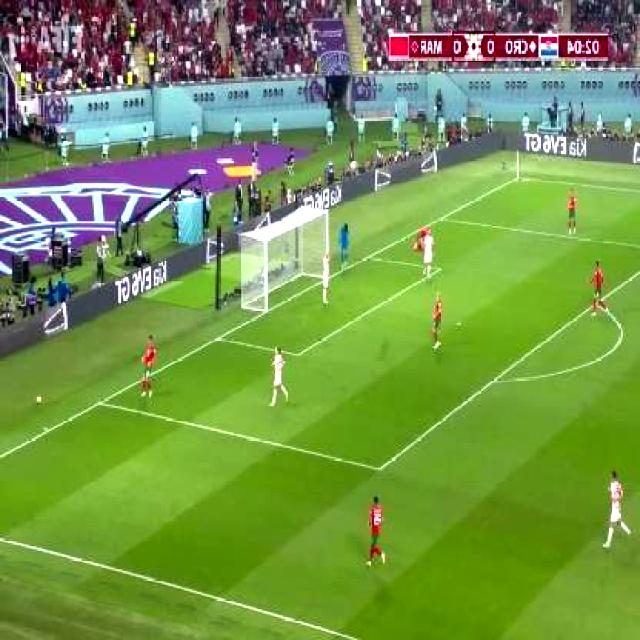bigarea_bottom_inner: (371, 456, 391, 482)
bigarea_bottom_outter: (94, 392, 109, 412)
bigarea_top_outter: (436, 209, 450, 226)
bottom_arc_area_intersection: (486, 369, 503, 391)
corner: (512, 171, 528, 183)
smallarea_bottom_inner: (290, 342, 308, 364)
smallarea_bottom_outter: (211, 328, 226, 346)
smallarea_top_inner: (432, 258, 448, 278)
smallarea_top_outter: (363, 246, 379, 265)
top_arc_area_intersection: (589, 294, 603, 311)
